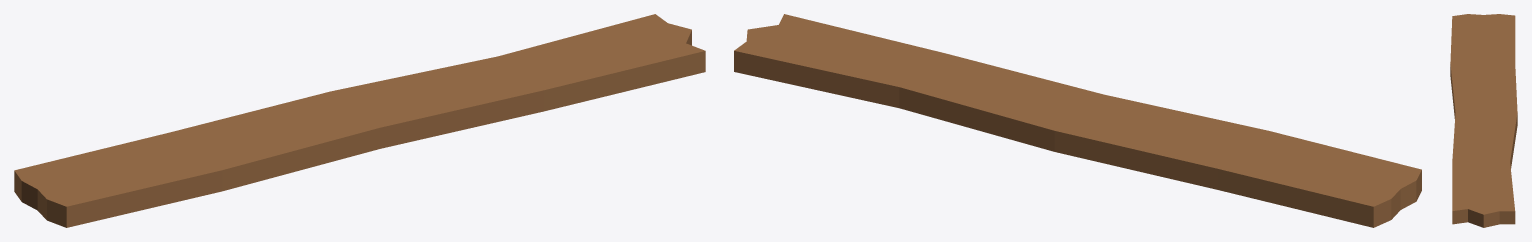
The model's file is WoodenPlank_01.fbx.
3 views of the same model, side by side, from view 1: azimuth 30°, elevation 25°; view 2: azimuth 150°, elevation 25°; view 3: azimuth 270°, elevation 25° (orthographic). The views are drawn at different scales.
Parts seen in each view (by area): view 1: WoodenPlank_01; view 2: WoodenPlank_01; view 3: WoodenPlank_01.
Boxes of the visible parts, bbox=[...] form: WoodenPlank_01: bbox=[14, 14, 705, 227]; WoodenPlank_01: bbox=[734, 14, 1421, 227]; WoodenPlank_01: bbox=[1450, 14, 1517, 227].
Size of the model in its own units: 166 by 5.13 by 23.52.
